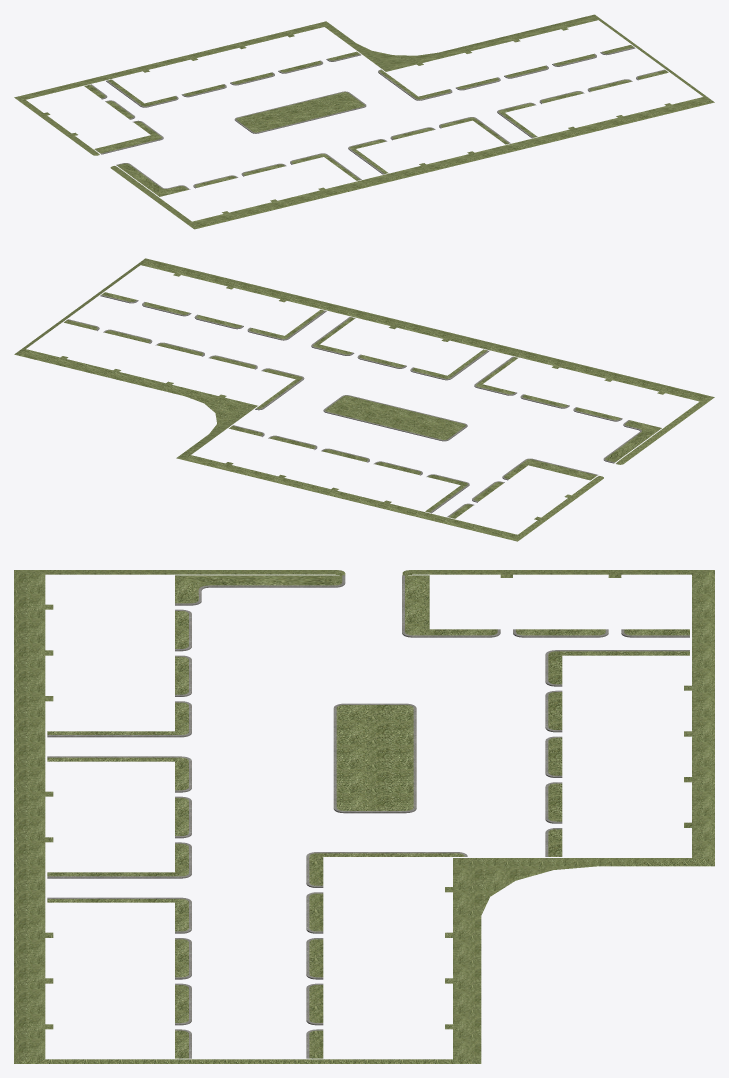
Rendered from vgnhseland1.obj.
3 views of the same model, one above another, from view 1: azimuth 30°, elevation 25°; view 2: azimuth 150°, elevation 25°; view 3: azimuth 270°, elevation 25° (orthographic). The views are drawn at different scales.
Parts seen in each view (by area): view 1: vgnhseland1; view 2: vgnhseland1; view 3: vgnhseland1.
Boxes of the visible parts, box(x1,y1,x2,y2) form: vgnhseland1: box(14, 14, 714, 229); vgnhseland1: box(14, 258, 714, 541); vgnhseland1: box(14, 570, 714, 1063).
Size of the model in its own units: 200 by 0.2 by 120.
Materials: 2 (2 with a texture image).
